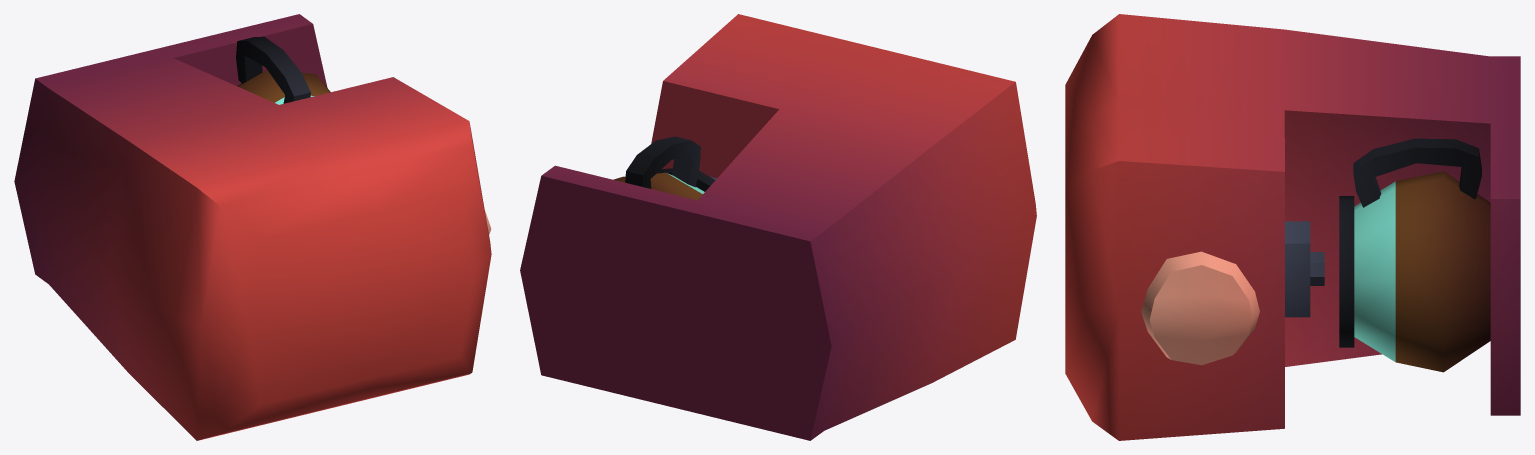
The model's file is CoffeeMachine.fbx.
The picture shows the model from 3 angles, left to right: view 1: azimuth 30°, elevation 25°; view 2: azimuth 150°, elevation 25°; view 3: azimuth 270°, elevation 25°; orthographic projection. The views are drawn at different scales.
Parts seen in each view (by area): view 1: Cube.005; view 2: Cube.005; view 3: Cube.005.
Boxes of the visible parts, box(x1,y1,x2,y2) form: Cube.005: box(14, 14, 491, 440); Cube.005: box(520, 14, 1036, 440); Cube.005: box(1065, 14, 1520, 440).
Bounding box in the file's own units: 69.63 × 51.08 × 75.28.
